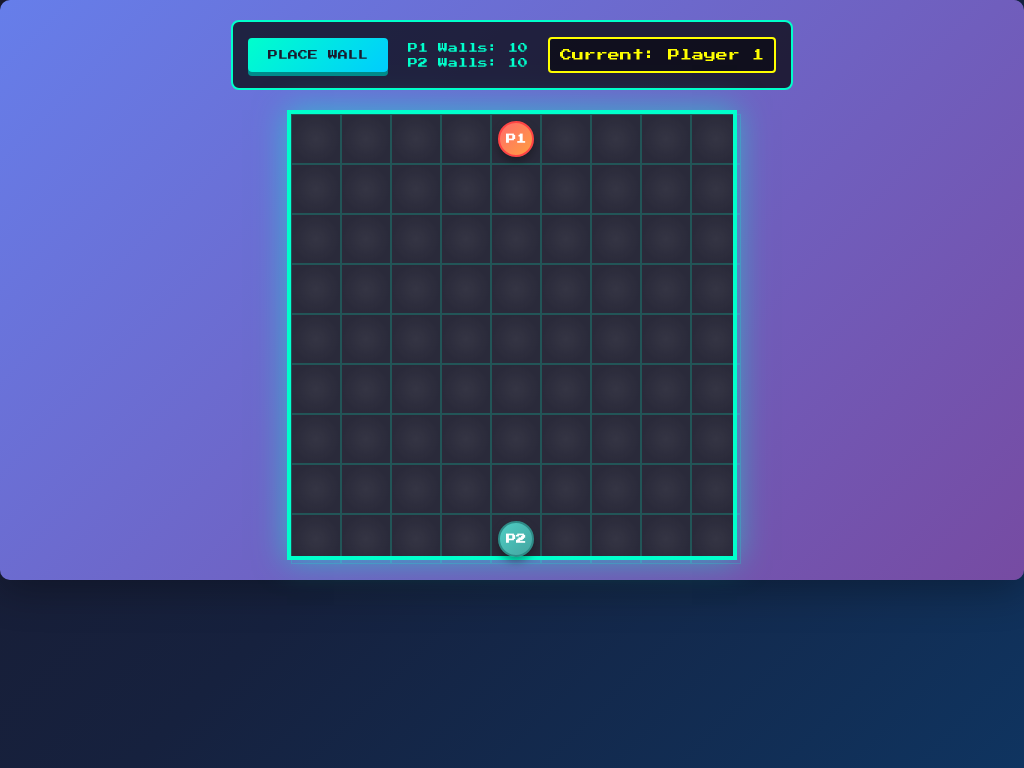
Test: GameBoard Component › Wall Placement Mode › toggles to wall placement mode
What coordinates should you click on to do the following:
click the button "Place Wall"
I would click on:
 (318, 55)
Its box is x1=248 y1=38 x2=388 y2=72.
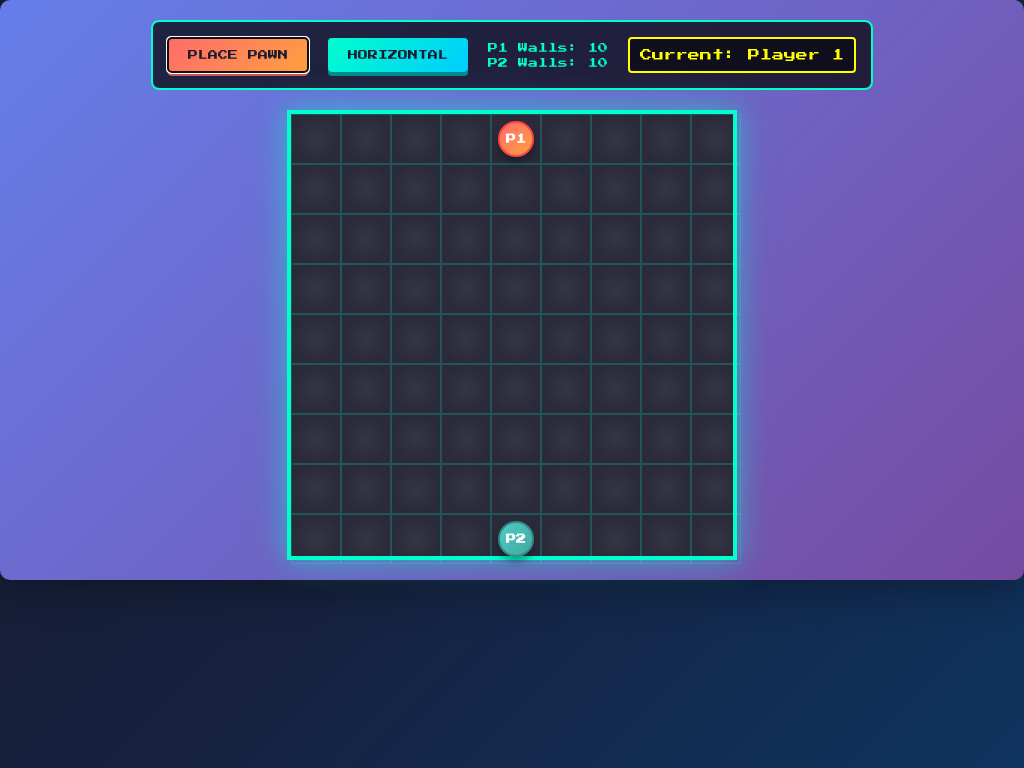
Expected: the button "Place Pawn" is shown, x1=168 y1=38 x2=308 y2=72
Expected: the button "Horizontal" is shown, x1=328 y1=38 x2=468 y2=72
